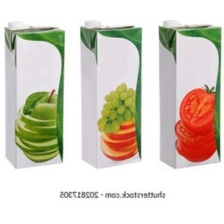carton: (0, 16, 71, 173), (154, 17, 224, 170), (77, 16, 147, 169)
